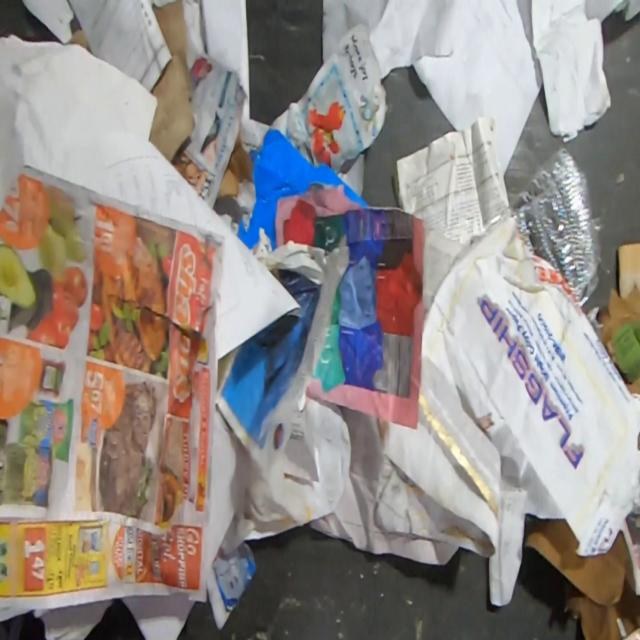cardboard: (522, 280, 640, 640), (236, 128, 370, 250), (216, 128, 252, 197), (616, 240, 640, 295)
rigid_plastic: (420, 147, 606, 334)
